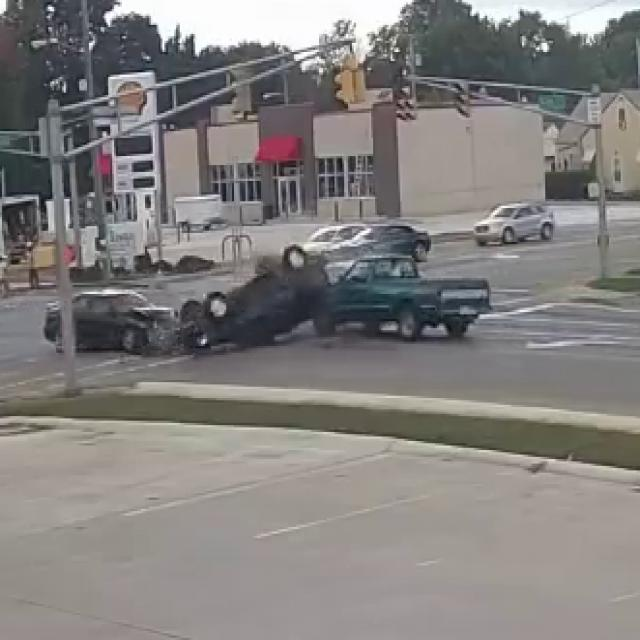accident: (169, 226, 487, 374), (175, 231, 329, 355)
